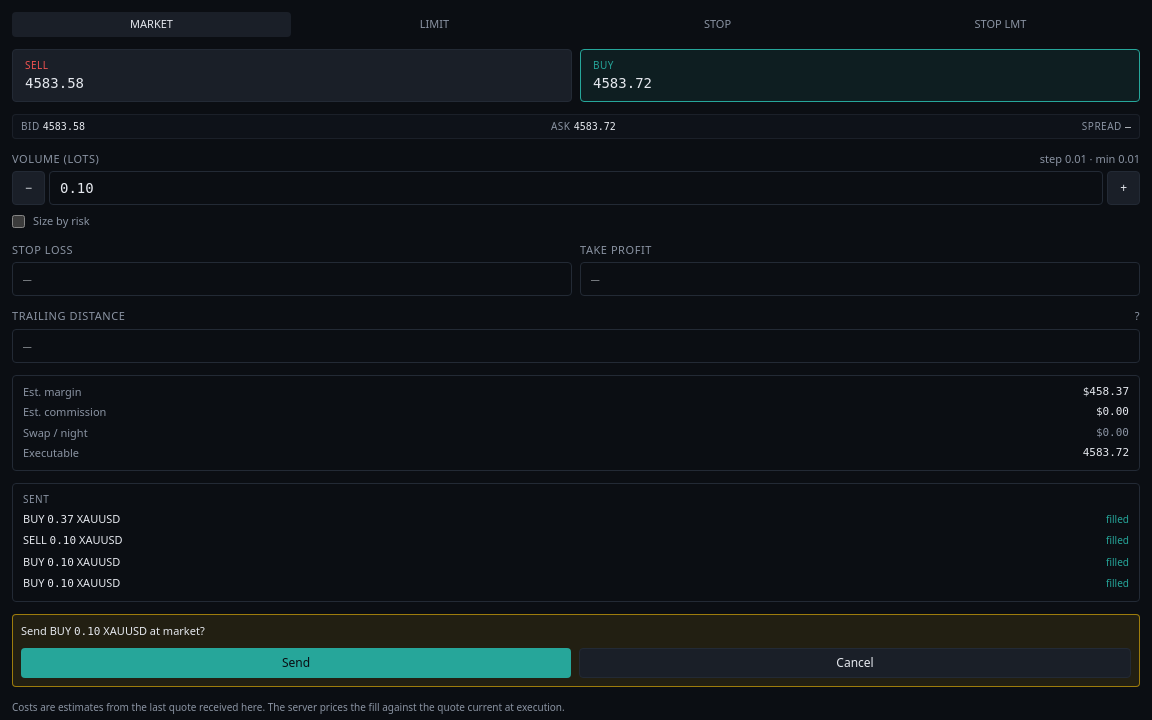
Test: the order ticket, rendered › sends nothing when the staged order is cancelled
The width and height of the screenshot is (1152, 720).
Expected: the element with test id "ticket-confirm" shows "BUY 0.10 XAUUSD at market", x1=21 y1=622 x2=205 y2=638
Click the button "Cancel": {"x": 855, "y": 663} x1=579 y1=648 x2=1131 y2=678
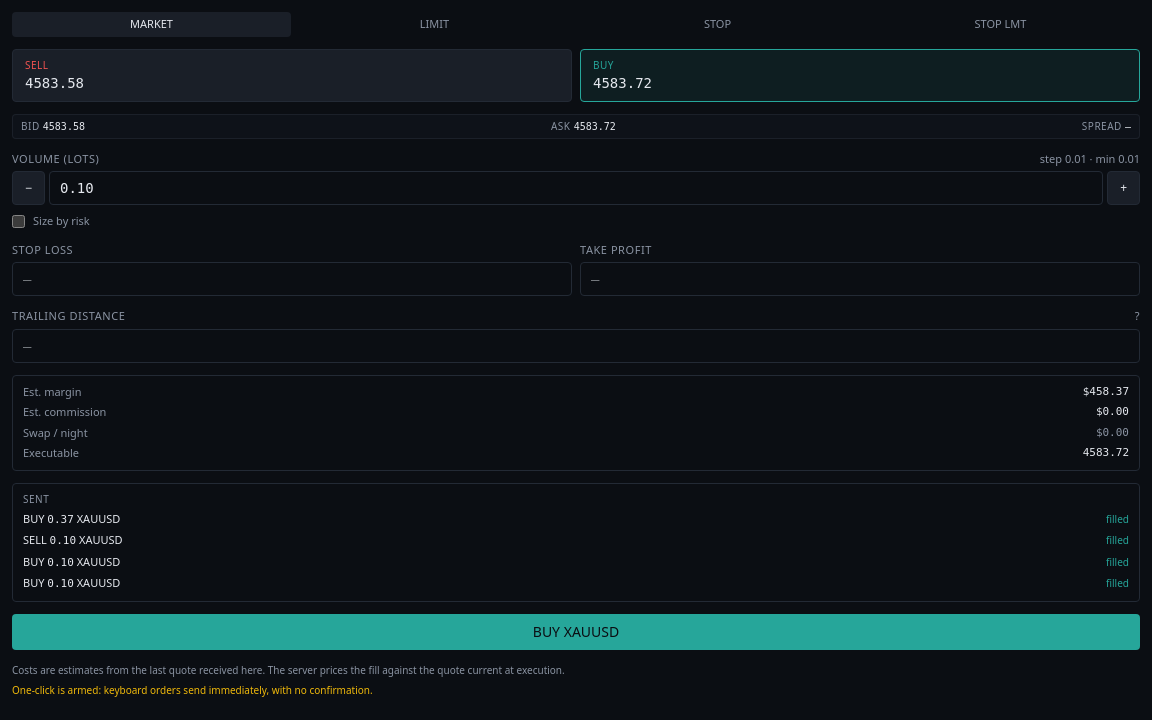
Result: the element with test id "ticket-confirm" is gone
